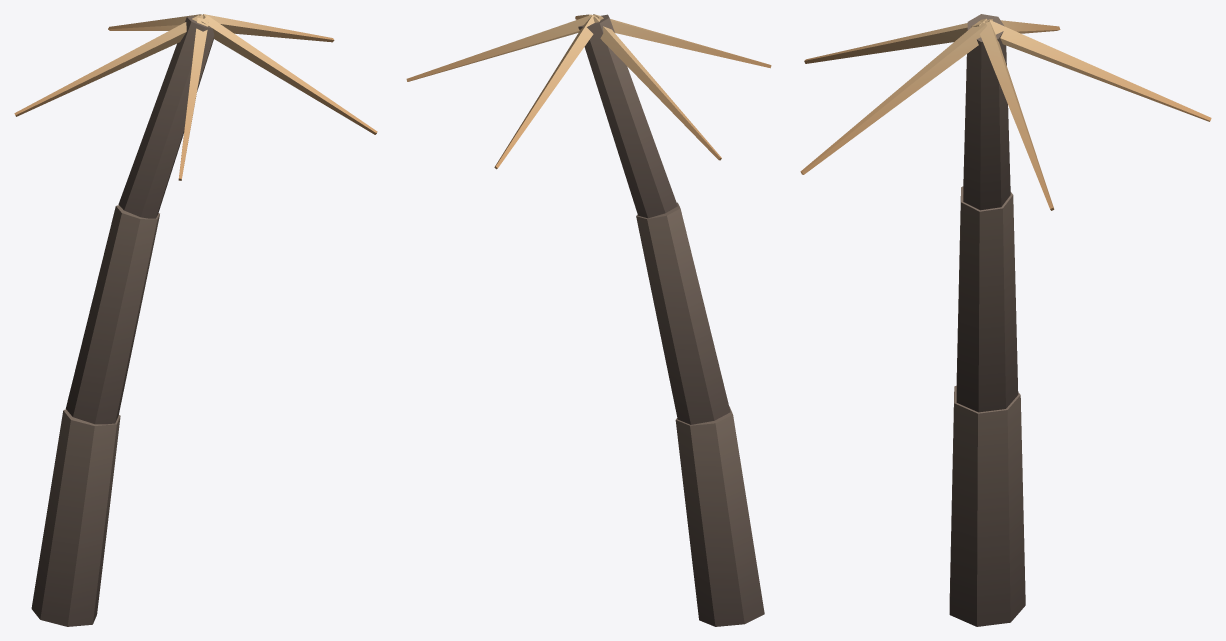
The model's file is dead_palm.glb.
3 renders of one model, left to right at view 1: azimuth 30°, elevation 25°; view 2: azimuth 150°, elevation 25°; view 3: azimuth 270°, elevation 25°, orthographic. The views are drawn at different scales.
Visible parts, largest first — view 1: dead_palm; view 2: dead_palm; view 3: dead_palm.
Boxes of the visible parts, x1=… form: dead_palm: x1=14, y1=14, x2=377, y2=626; dead_palm: x1=406, y1=14, x2=771, y2=626; dead_palm: x1=800, y1=14, x2=1211, y2=626.
Size of the model in its own units: 3.54 by 5.92 by 3.29.
Materials: 1 (1 with a texture image).
